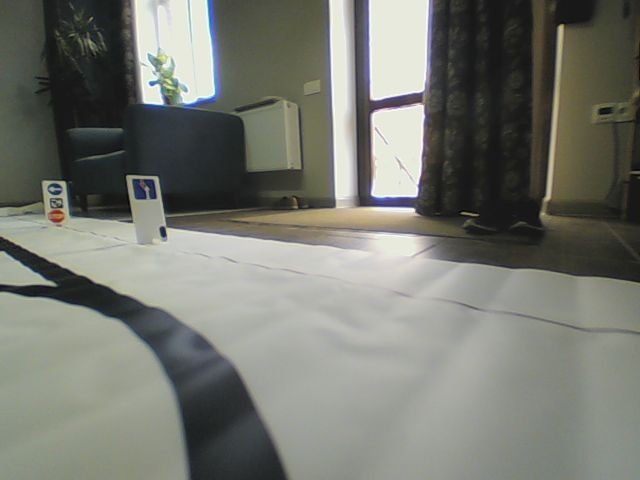priority_movement: (132, 177, 157, 201)
